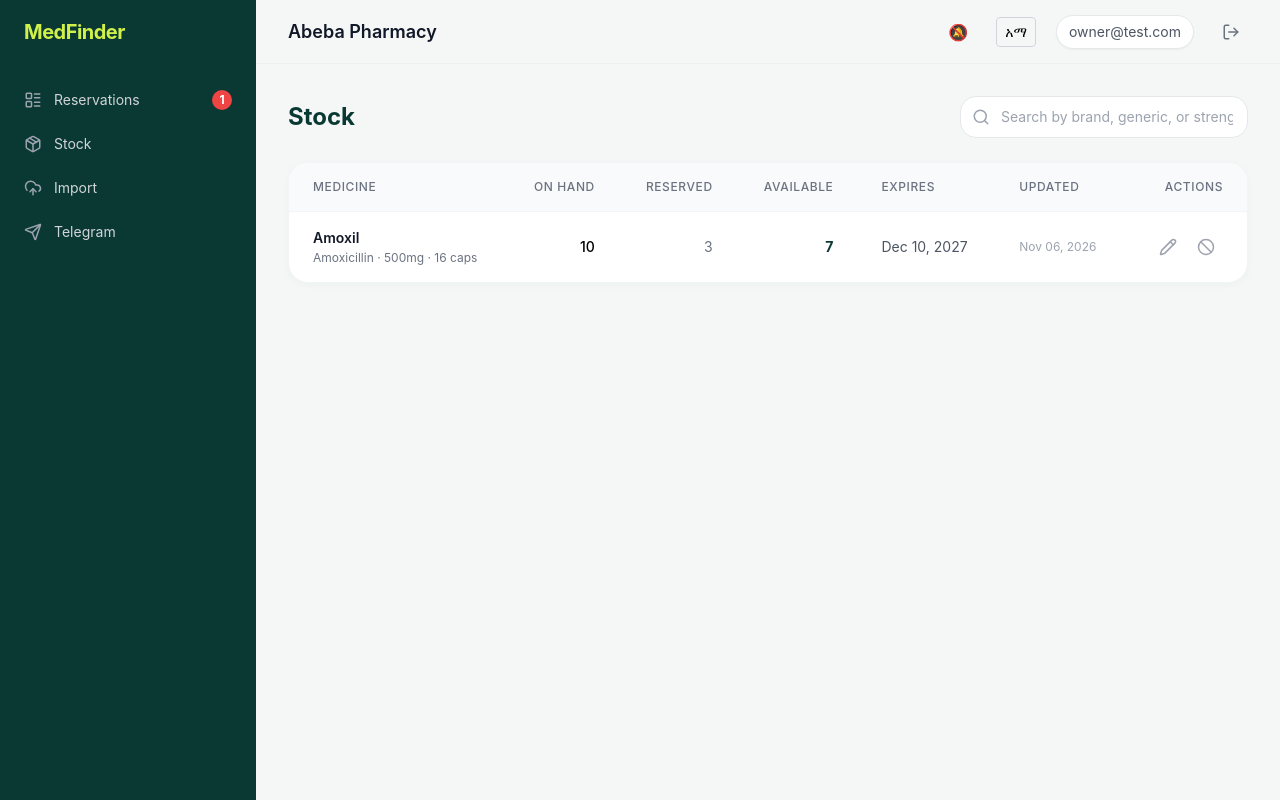
it: StockPage › opens mark-out dialog with reserved warning, cancel sends no request
Check: the text "Amoxil" is shown, box [313,229,359,246]
Click the button named "mark out of stock" at (1206, 247), box [1189,230,1223,264]
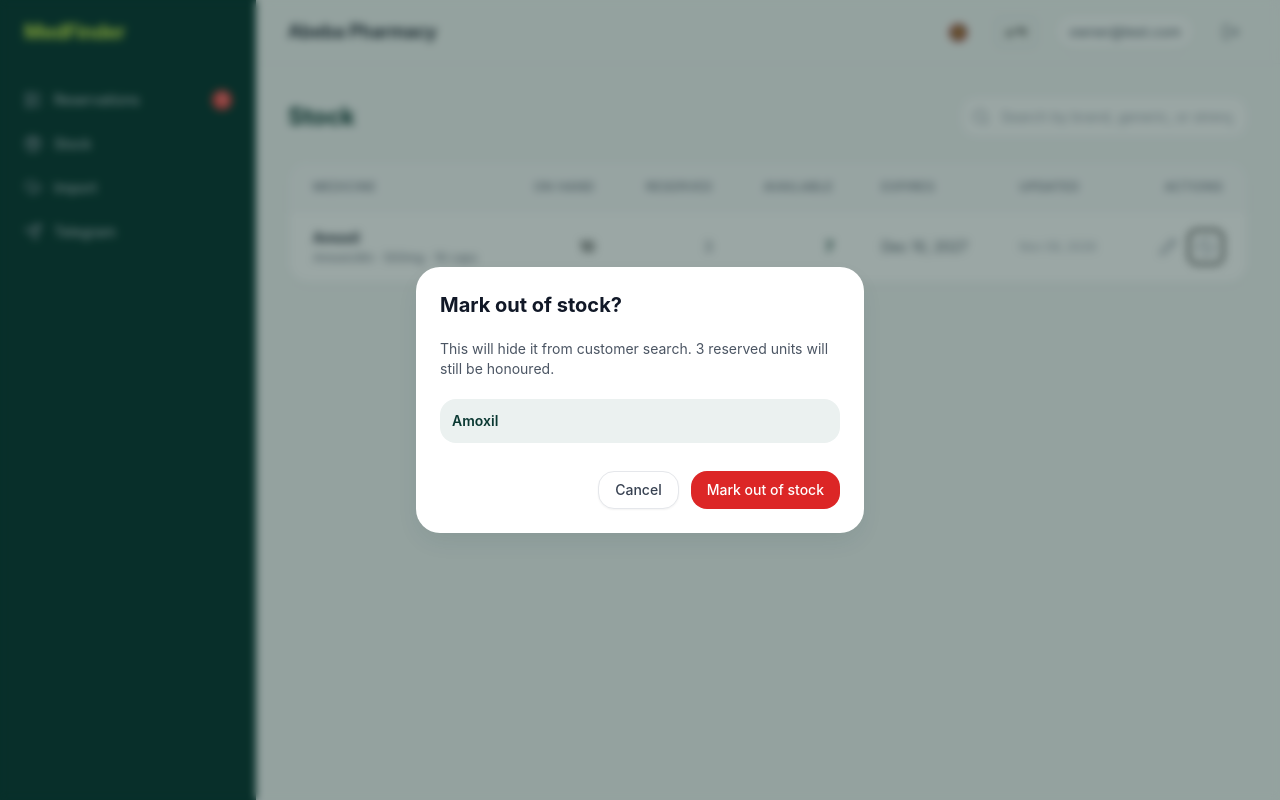
Check: the dialog is shown, box [416,267,864,533]
Check: the text "3 reserved units will still be honoured" is shown, box [440,340,828,377]
Click the button "Cancel" at (638, 490), box [598,471,679,509]
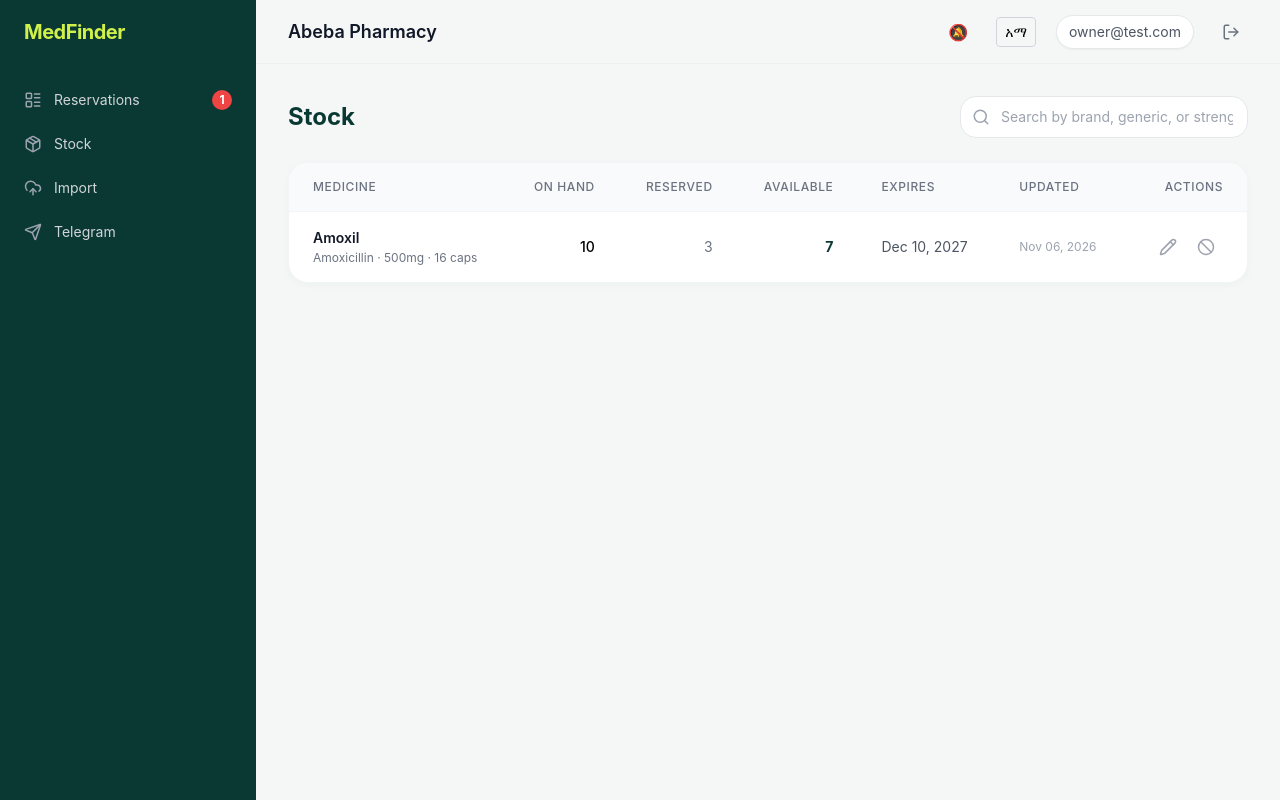
Check: the dialog is gone
